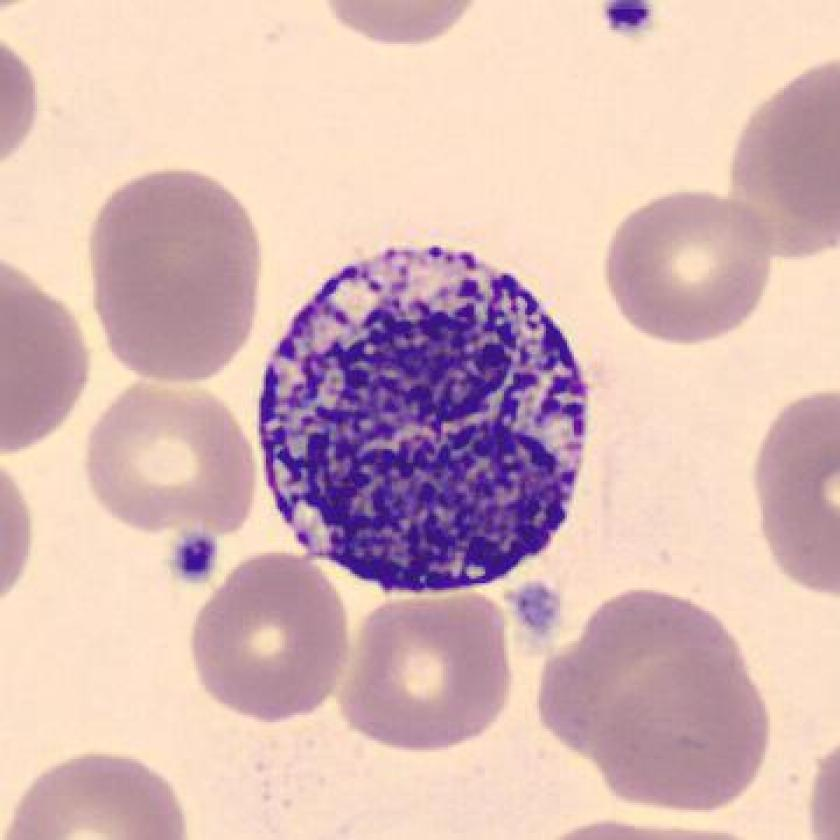basophil: (260, 230, 601, 598)
